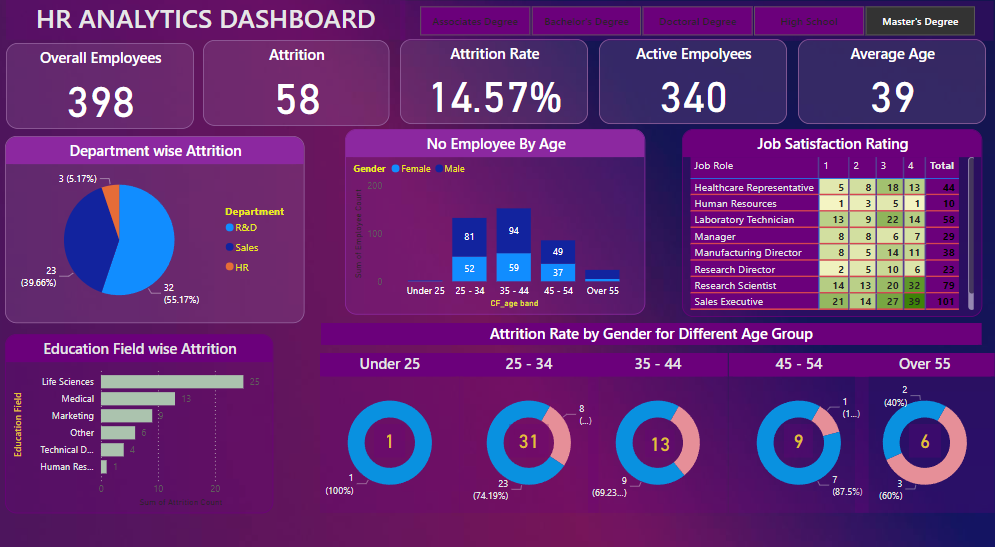

This screenshot's page, from the dashboard's own definition file:
{"tool":"powerbi","page":{"name":"Page 1","canvas":[1280,720],"ordinal":0},"visuals":[{"type":"card","title":"Active Empolyees","fields":{"Values":["HR data.Active Employess"]},"box":[772.8,50.6,240.7,108.6],"z":0},{"type":"card","title":"Attrition","fields":{"Values":["Sum(HR data.Attrition Count)"]},"box":[265.7,51.4,238.6,110],"z":1000},{"type":"card","title":"Attrition Rate","fields":{"Values":["HR data.Attrition Rate"]},"box":[518.5,50.6,240.7,108.6],"z":2000},{"type":"card","title":"Overall Employees","fields":{"Values":["Sum(HR data.Employee Count)"]},"box":[12.3,55.6,240.7,109.9],"z":3000},{"type":"card","title":"Average Age","fields":{"Values":["Avg(HR data.Age)"]},"box":[1028.4,50.6,240.7,108.6],"z":4000},{"type":"pieChart","title":"Department wise Attrition","fields":{"Category":["HR data.Department"],"Y":["Sum(HR data.Attrition Count)"]},"box":[11.1,174.1,384,239.5],"z":5000},{"type":"columnChart","title":"No Employee By Age","fields":{"Category":["HR data.CF_age band"],"Y":["Sum(HR data.Employee Count)"],"Series":["HR data.Gender"]},"box":[446.9,165.4,385.2,238.3],"z":6000},{"type":"pivotTable","title":"Job Satisfaction Rating","fields":{"Columns":["HR data.Job Satisfaction"],"Values":["Sum(HR data.Employee Count)"],"Rows":["HR data.Job Role"]},"box":[879,165.4,385.2,240.7],"z":7000},{"type":"barChart","title":"Education Field wise Attrition","fields":{"Category":["HR data.Education Field"],"Y":["Sum(HR data.Attrition Count)"]},"box":[12,428,344,230],"z":8000},{"type":"donutChart","title":"Under 25","fields":{"Category":["HR data.Gender"],"Y":["Sum(HR data.Attrition Count)"],"Series":["HR data.CF_age band"]},"box":[414.8,453.1,179,204.9],"z":9000},{"type":"textbox","title":"Attrition Rate by Gender for Different Age Group","box":[417.3,413.6,846.9,28.4],"z":10000},{"type":"donutChart","title":"25 - 34","fields":{"Category":["HR data.Gender"],"Y":["Sum(HR data.Attrition Count)"],"Series":["HR data.CF_age band"]},"box":[593.8,453.1,179,204.9],"z":11000},{"type":"donutChart","title":"35 - 44","fields":{"Category":["HR data.Gender"],"Y":["Sum(HR data.Attrition Count)"],"Series":["HR data.CF_age band"]},"box":[759.3,453.1,179,204.9],"z":12000},{"type":"donutChart","title":"45 - 54","fields":{"Category":["HR data.Gender"],"Y":["Sum(HR data.Attrition Count)"],"Series":["HR data.CF_age band"]},"box":[939.5,453.1,179,204.9],"z":13000},{"type":"donutChart","title":"Over 55","fields":{"Category":["HR data.Gender"],"Y":["Sum(HR data.Attrition Count)"],"Series":["HR data.CF_age band"]},"box":[1101.2,453.1,179,204.9],"z":14000},{"type":"card","fields":{"Values":["Sum(HR data.Attrition Count)"]},"box":[485.2,543.2,39.5,43.2],"z":15000},{"type":"card","fields":{"Values":["Sum(HR data.Attrition Count)"]},"box":[658,543.2,50.6,43.2],"z":16000},{"type":"card","fields":{"Values":["Sum(HR data.Attrition Count)"]},"box":[832.1,551.9,38.3,34.6],"z":17000},{"type":"card","fields":{"Values":["Sum(HR data.Attrition Count)"]},"box":[1009.9,543.2,37,43.2],"z":18000},{"type":"card","fields":{"Values":["Sum(HR data.Attrition Count)"]},"box":[1170.4,543.2,40.7,43.2],"z":19000},{"type":"textbox","title":"HR ANALYTICS DASHBOARD","box":[12.3,0,512.3,50.6],"z":20000},{"type":"slicer","fields":{"Values":["HR data.Education"]},"box":[518.5,1.2,750.6,49.4],"z":20001}]}

Visuals, with their boxes in screenshot pixels (x1, y1, x2, y2), scaled from the page's 1280x720 canvas onto the 995x547 screenshot:
"Active Empolyees" card: <bbox>601, 38, 788, 121</bbox>
"Attrition" card: <bbox>207, 39, 392, 123</bbox>
"Attrition Rate" card: <bbox>403, 38, 590, 121</bbox>
"Overall Employees" card: <bbox>10, 42, 197, 126</bbox>
"Average Age" card: <bbox>799, 38, 987, 121</bbox>
"Department wise Attrition" pieChart: <bbox>9, 132, 307, 314</bbox>
"No Employee By Age" columnChart: <bbox>347, 126, 647, 307</bbox>
"Job Satisfaction Rating" pivotTable: <bbox>683, 126, 983, 309</bbox>
"Education Field wise Attrition" barChart: <bbox>9, 325, 277, 500</bbox>
"Under 25" donutChart: <bbox>322, 344, 462, 500</bbox>
"Attrition Rate by Gender for Different Age Group" textbox: <bbox>324, 314, 983, 336</bbox>
"25 - 34" donutChart: <bbox>462, 344, 601, 500</bbox>
"35 - 44" donutChart: <bbox>590, 344, 729, 500</bbox>
"45 - 54" donutChart: <bbox>730, 344, 869, 500</bbox>
"Over 55" donutChart: <bbox>856, 344, 994, 500</bbox>
card - Sum(HR data.Attrition Count): <bbox>377, 413, 408, 446</bbox>
card - Sum(HR data.Attrition Count): <bbox>511, 413, 551, 446</bbox>
card - Sum(HR data.Attrition Count): <bbox>647, 419, 677, 446</bbox>
card - Sum(HR data.Attrition Count): <bbox>785, 413, 814, 446</bbox>
card - Sum(HR data.Attrition Count): <bbox>910, 413, 941, 446</bbox>
"HR ANALYTICS DASHBOARD" textbox: <bbox>10, 0, 408, 38</bbox>
slicer - HR data.Education: <bbox>403, 1, 987, 38</bbox>
